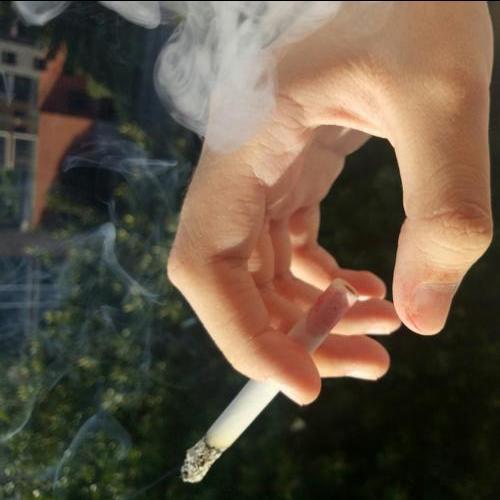Cigarette: (178, 276, 360, 481)
Smoke: (14, 0, 342, 148)
